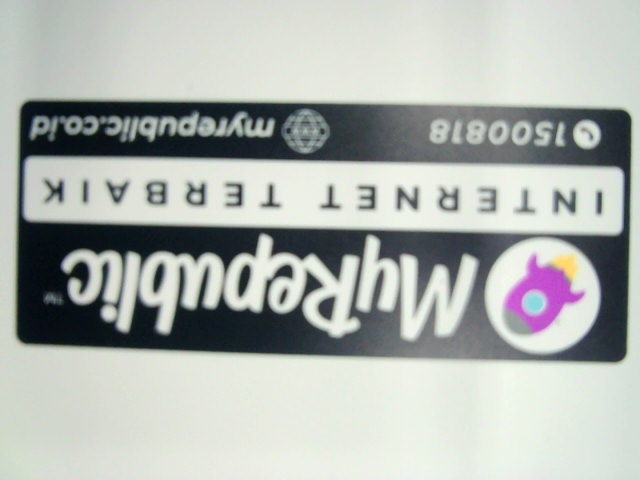BD_MyRepublic: (11, 89, 632, 365)
